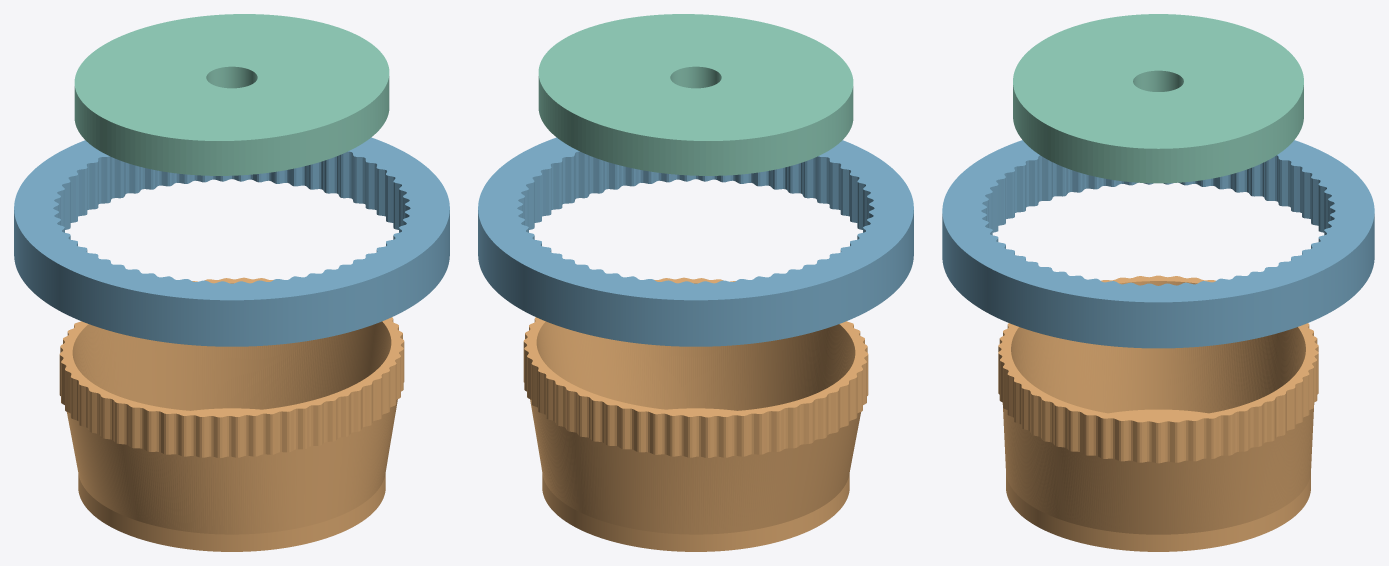
The model's file is harmonic_drive_exploded.glb.
3 views of the same model, side by side, from view 1: azimuth 30°, elevation 25°; view 2: azimuth 150°, elevation 25°; view 3: azimuth 270°, elevation 25° (orthographic).
Parts seen in each view (by area): view 1: Flexspline, Circular spline, Wave generator; view 2: Flexspline, Circular spline, Wave generator; view 3: Flexspline, Circular spline, Wave generator.
Part boxes in pixels (bbox=[...]): Flexspline: bbox=[59, 277, 404, 551]; Circular spline: bbox=[14, 137, 449, 346]; Wave generator: bbox=[74, 14, 389, 175]; Flexspline: bbox=[523, 277, 868, 551]; Circular spline: bbox=[478, 137, 913, 346]; Wave generator: bbox=[538, 14, 853, 175]; Flexspline: bbox=[998, 275, 1318, 551]; Circular spline: bbox=[942, 140, 1374, 348]; Wave generator: bbox=[1013, 14, 1303, 183].
Size of the model in its own units: 0.068 by 0.0705 by 0.068.
